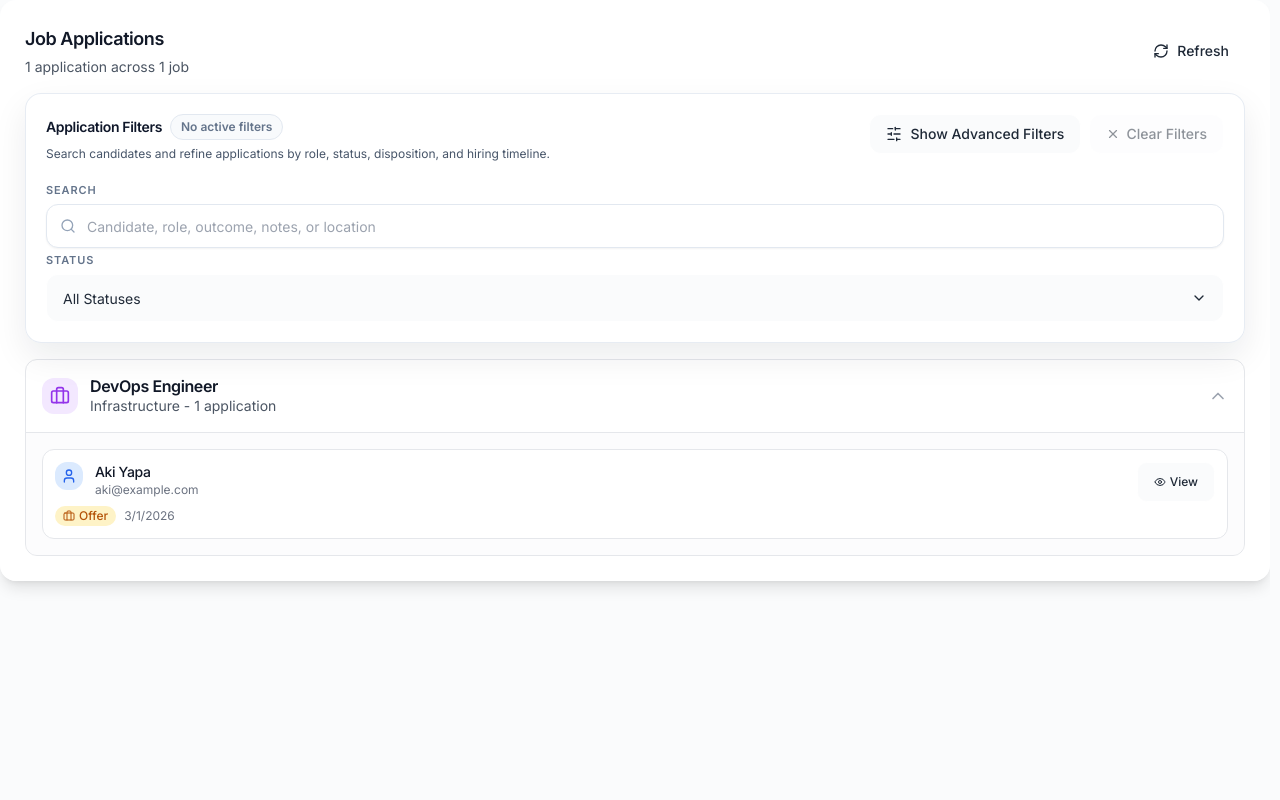
Test: ApplicationsManager role experience › lets recruiters resend a pending offer email from the offer workspace
Expected: the heading "Job Applications" is shown, [25,28,164,49]
Click the button "View": (1176, 482) [1137,462,1215,502]
(page scrolled)
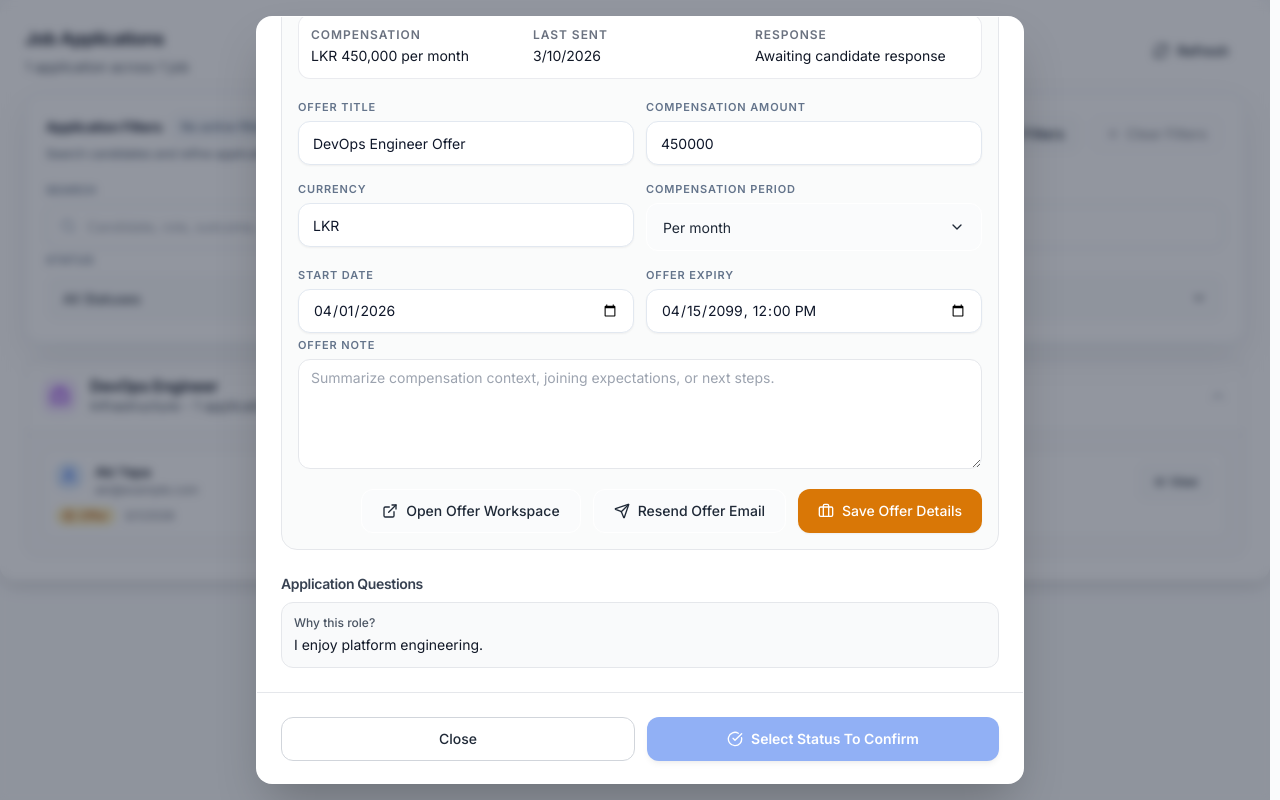
Result: the button "Resend Offer Email" is shown
Click the button "Resend Offer Email": (689, 511) [593,489,786,533]
(page scrolled)
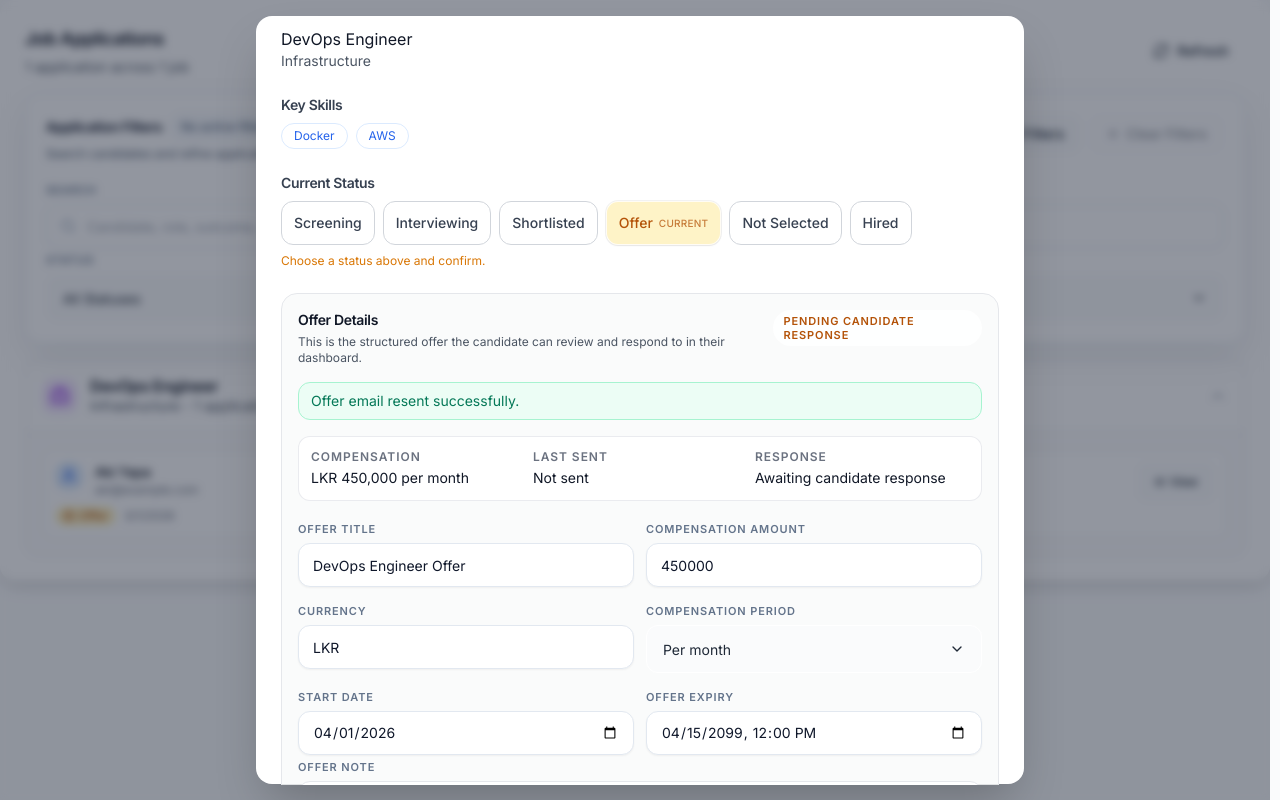
Result: the text "Offer email resent successfully." is shown at [298,382,982,420]
